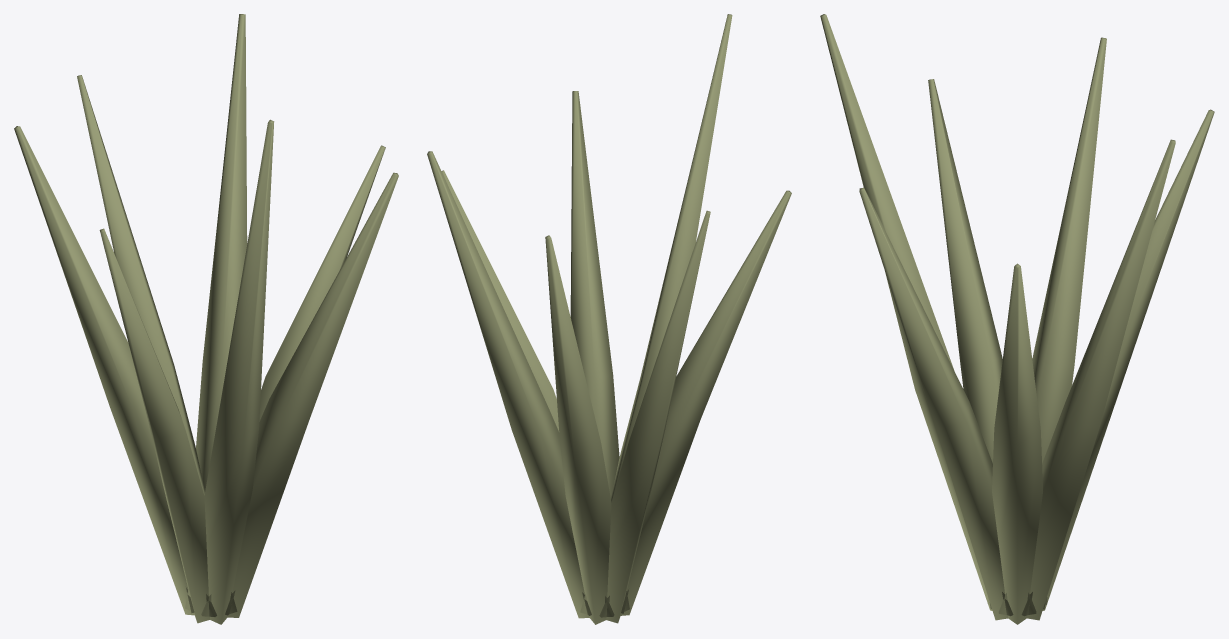
The model's file is grass.glb.
3 views of the same model, side by side, from view 1: azimuth 30°, elevation 25°; view 2: azimuth 150°, elevation 25°; view 3: azimuth 270°, elevation 25° (orthographic). The views are drawn at different scales.
Visible parts, largest first — view 1: Grass_leaf; view 2: Grass_leaf; view 3: Grass_leaf.
Part boxes in pixels (x1,y1,x2,y2): Grass_leaf: [14, 14, 398, 624]; Grass_leaf: [427, 14, 791, 624]; Grass_leaf: [820, 14, 1214, 624].
Bounding box in the file's own units: 0.1158 × 0.1927 × 0.1188.
